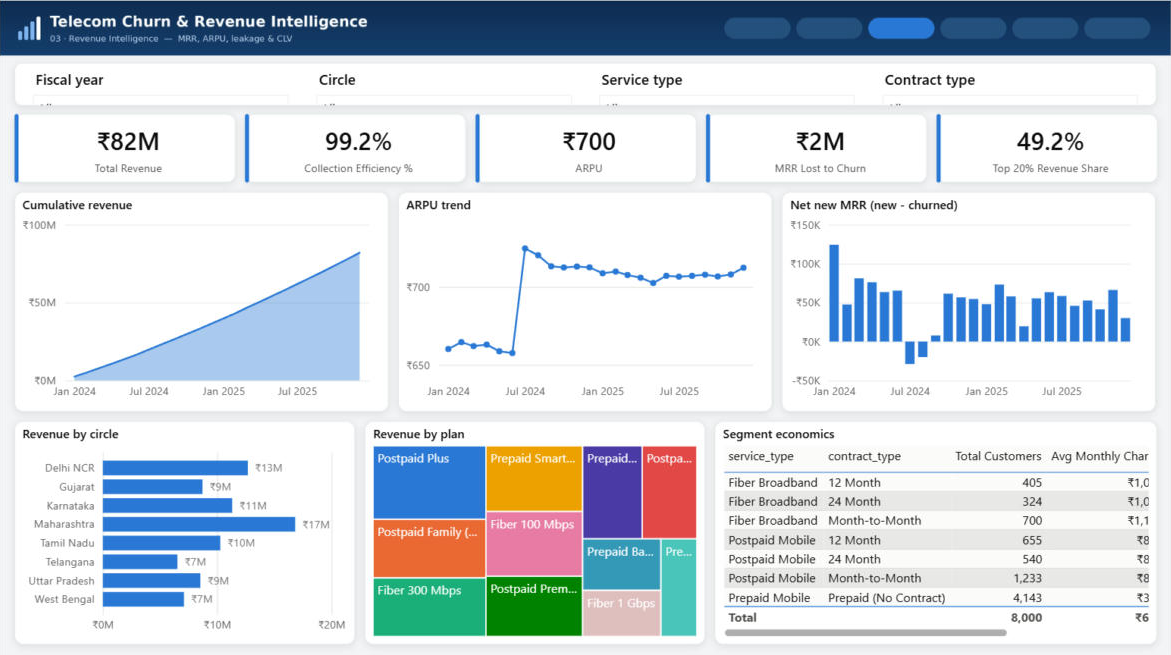

Layout of this report page (visuals, bound fields, positions):
{"tool":"powerbi","page":{"name":"Revenue Intelligence","canvas":[1280,720],"ordinal":2},"visuals":[{"type":"slicer","fields":{"Values":["dim_date.fiscal_year"]},"box":[26,69,299.5,44.7],"z":0},{"type":"slicer","fields":{"Values":["dim_geography.circle"]},"box":[335.5,69,299.5,44.7],"z":1000},{"type":"slicer","fields":{"Values":["dim_customer.service_type"]},"box":[645,69,299.5,44.7],"z":2000},{"type":"slicer","fields":{"Values":["dim_customer.contract_type"]},"box":[954.5,69,299.5,44.7],"z":3000},{"type":"card","fields":{"Values":["_Measures.Total Revenue"]},"box":[28,128,225.3,66.7],"z":4000},{"type":"card","fields":{"Values":["_Measures.Collection Efficiency %"]},"box":[280,128,225.3,66.7],"z":5000},{"type":"card","fields":{"Values":["_Measures.ARPU"]},"box":[532,128,225.3,66.7],"z":6000},{"type":"card","fields":{"Values":["_Measures.MRR Lost to Churn"]},"box":[784,128,225.3,66.7],"z":7000},{"type":"card","fields":{"Values":["_Measures.Top 20% Revenue Share"]},"box":[1036,128,225.3,66.7],"z":8000},{"type":"areaChart","title":"Cumulative revenue","fields":{"Category":["dim_date.month_start"],"Y":["_Measures.Revenue Running Total"]},"box":[20,213.3,400.7,232],"z":9000},{"type":"lineChart","title":"ARPU trend","fields":{"Category":["dim_date.month_start"],"Y":["_Measures.ARPU"]},"box":[439.3,213.3,400.7,232],"z":10000},{"type":"clusteredColumnChart","title":"Net new MRR (new - churned)","fields":{"Category":["dim_date.month_start"],"Y":["_Measures.Net New MRR"]},"box":[858.7,213.3,400.7,232],"z":11000},{"type":"clusteredBarChart","title":"Revenue by circle","fields":{"Category":["dim_geography.circle"],"Y":["_Measures.Total Revenue"]},"box":[20,464,364,236],"z":12000},{"type":"treemap","title":"Revenue by plan","fields":{"Group":["dim_plan.plan_name"],"Values":["_Measures.Total Revenue"]},"box":[402.7,464,364,236],"z":13000},{"type":"tableEx","title":"Segment economics","fields":{"Values":["dim_customer.service_type","dim_customer.contract_type","_Measures.Total Customers","_Measures.Avg Monthly Charge","_Measures.Churn Rate %","_Measures.Avg Predicted CLV"]},"box":[785.3,464,475.3,236],"z":14000}]}

Visuals, with their boxes in screenshot pixels (x1, y1, x2, y2), scaled from the page's 1280x720 canvas onto the 1171x655 screenshot:
slicer - dim_date.fiscal_year: select_region(24, 63, 298, 103)
slicer - dim_geography.circle: select_region(307, 63, 581, 103)
slicer - dim_customer.service_type: select_region(590, 63, 864, 103)
slicer - dim_customer.contract_type: select_region(873, 63, 1147, 103)
card - _Measures.Total Revenue: select_region(26, 116, 232, 177)
card - _Measures.Collection Efficiency %: select_region(256, 116, 462, 177)
card - _Measures.ARPU: select_region(487, 116, 693, 177)
card - _Measures.MRR Lost to Churn: select_region(717, 116, 923, 177)
card - _Measures.Top 20% Revenue Share: select_region(948, 116, 1154, 177)
"Cumulative revenue" areaChart: select_region(18, 194, 385, 405)
"ARPU trend" lineChart: select_region(402, 194, 768, 405)
"Net new MRR (new - churned)" clusteredColumnChart: select_region(786, 194, 1152, 405)
"Revenue by circle" clusteredBarChart: select_region(18, 422, 351, 637)
"Revenue by plan" treemap: select_region(368, 422, 701, 637)
"Segment economics" tableEx: select_region(718, 422, 1153, 637)
